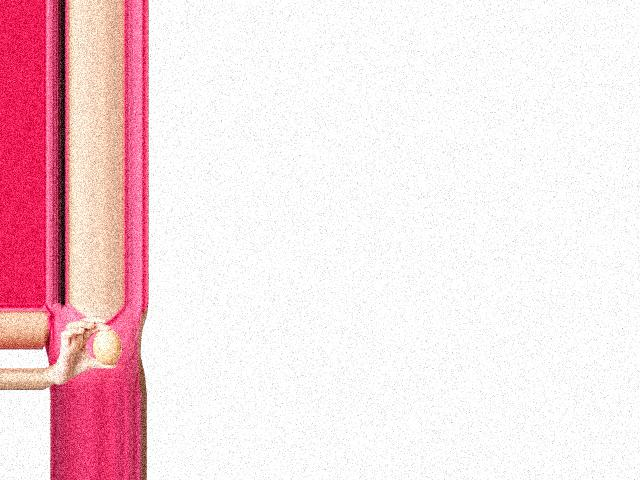egg: (92, 328, 121, 364)
